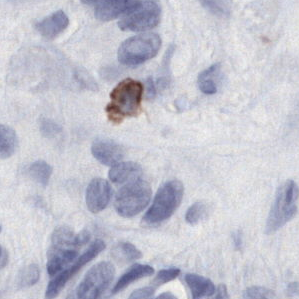Lymphocyte: (106, 79, 146, 119)
